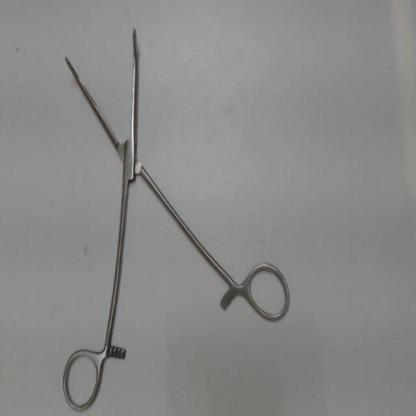Lahey Forceps: (56, 19, 294, 415)
